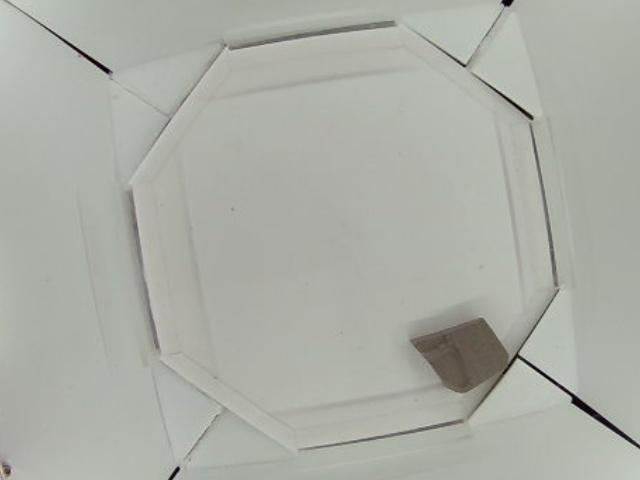China: (409, 312, 508, 396)
